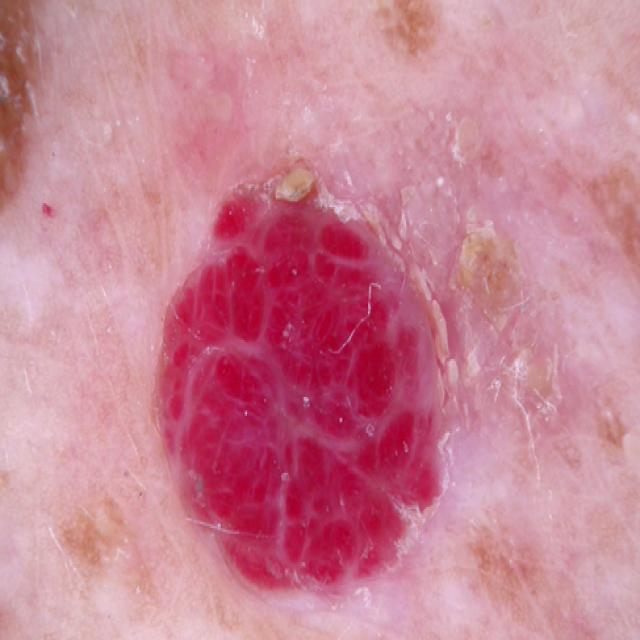Vascular Lesions: (147, 152, 476, 640)
